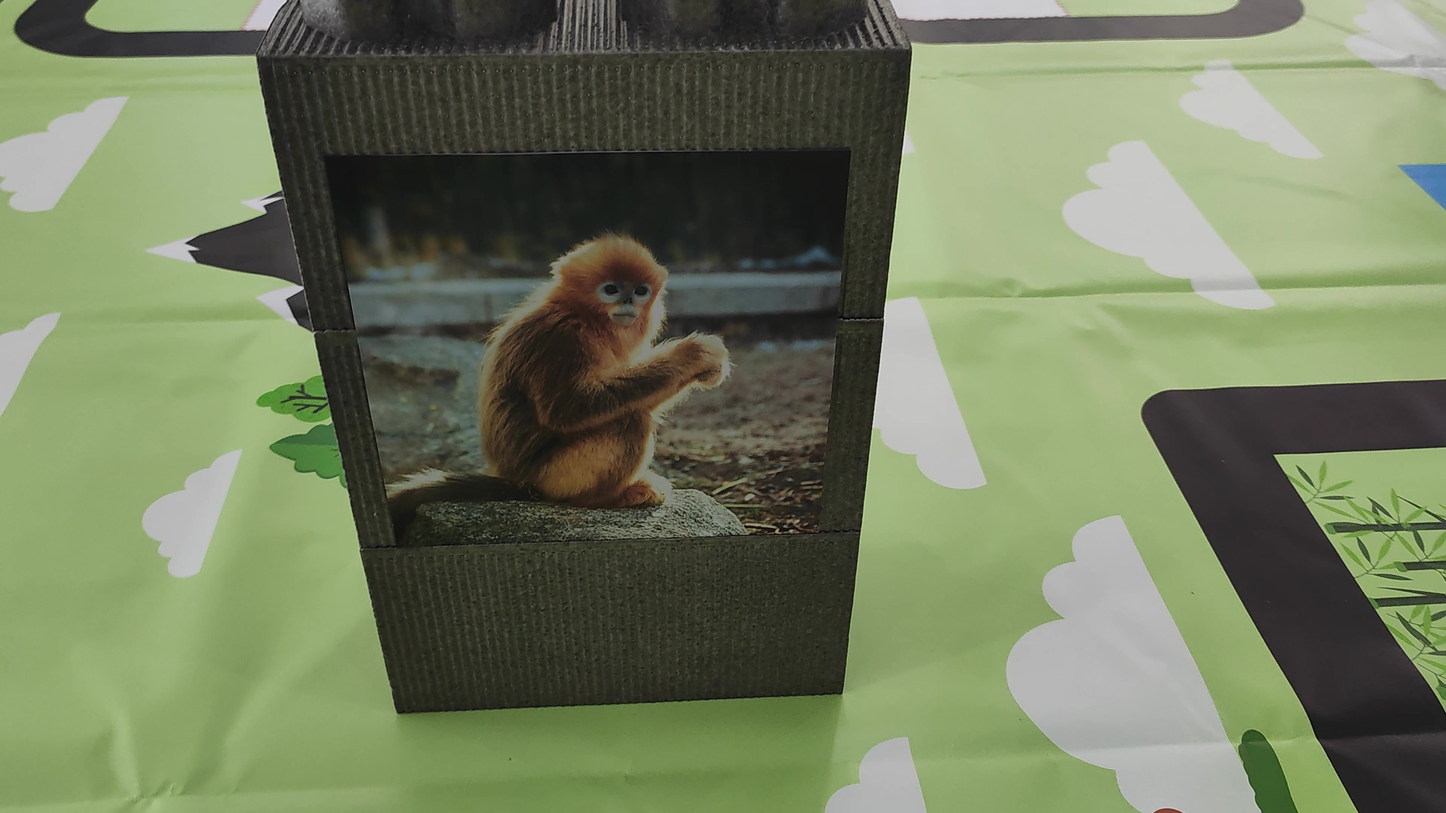monkey: (373, 199, 760, 540)
